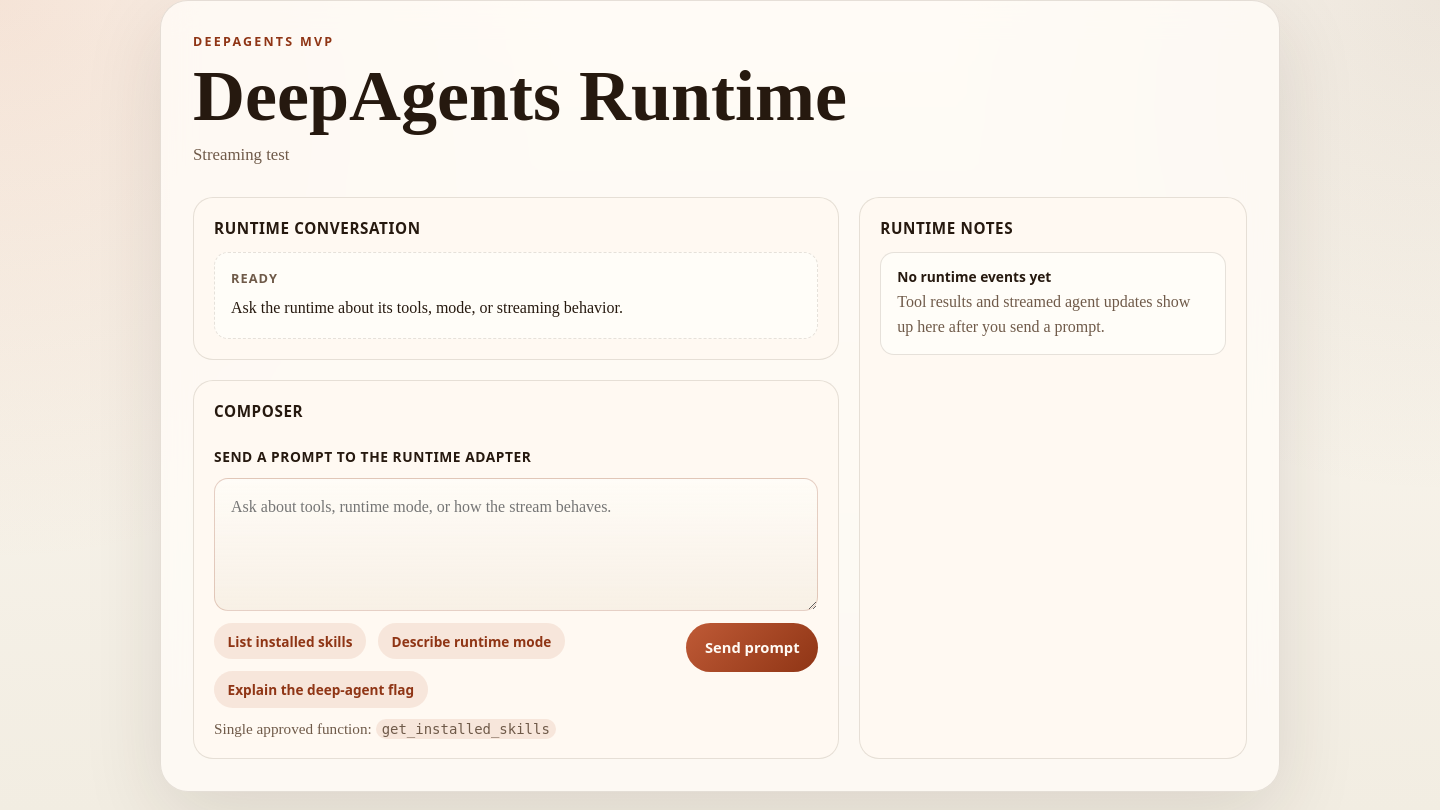
it: ChatShell › preserves whitespace across streamed assistant deltas
Step 1. Type "List installed skills" into the text box labelled "Send a prompt to the runtime adapter" → (516, 544), box [214, 478, 818, 611]
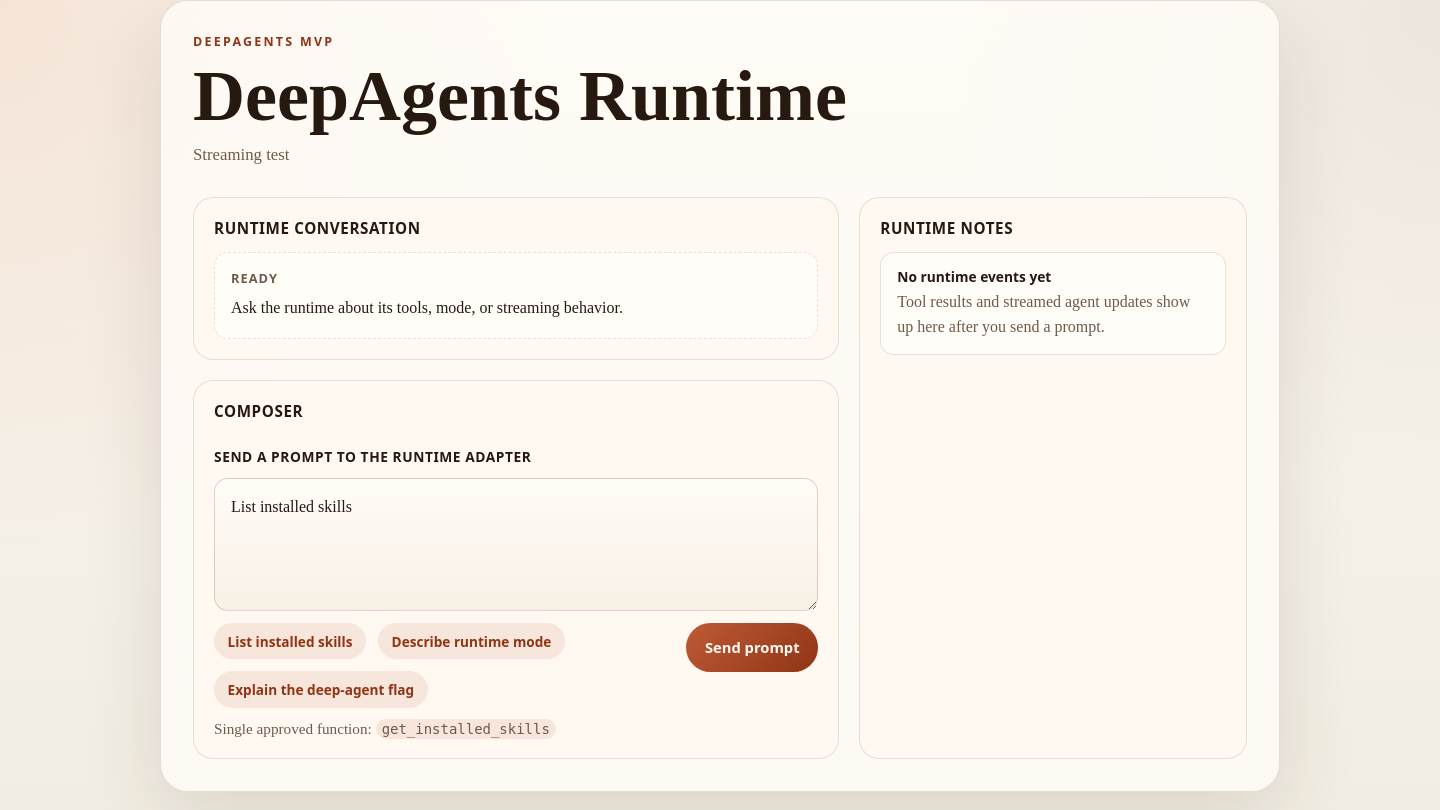
Step 2. Click the button "Send prompt" → (752, 647), box [686, 623, 818, 672]
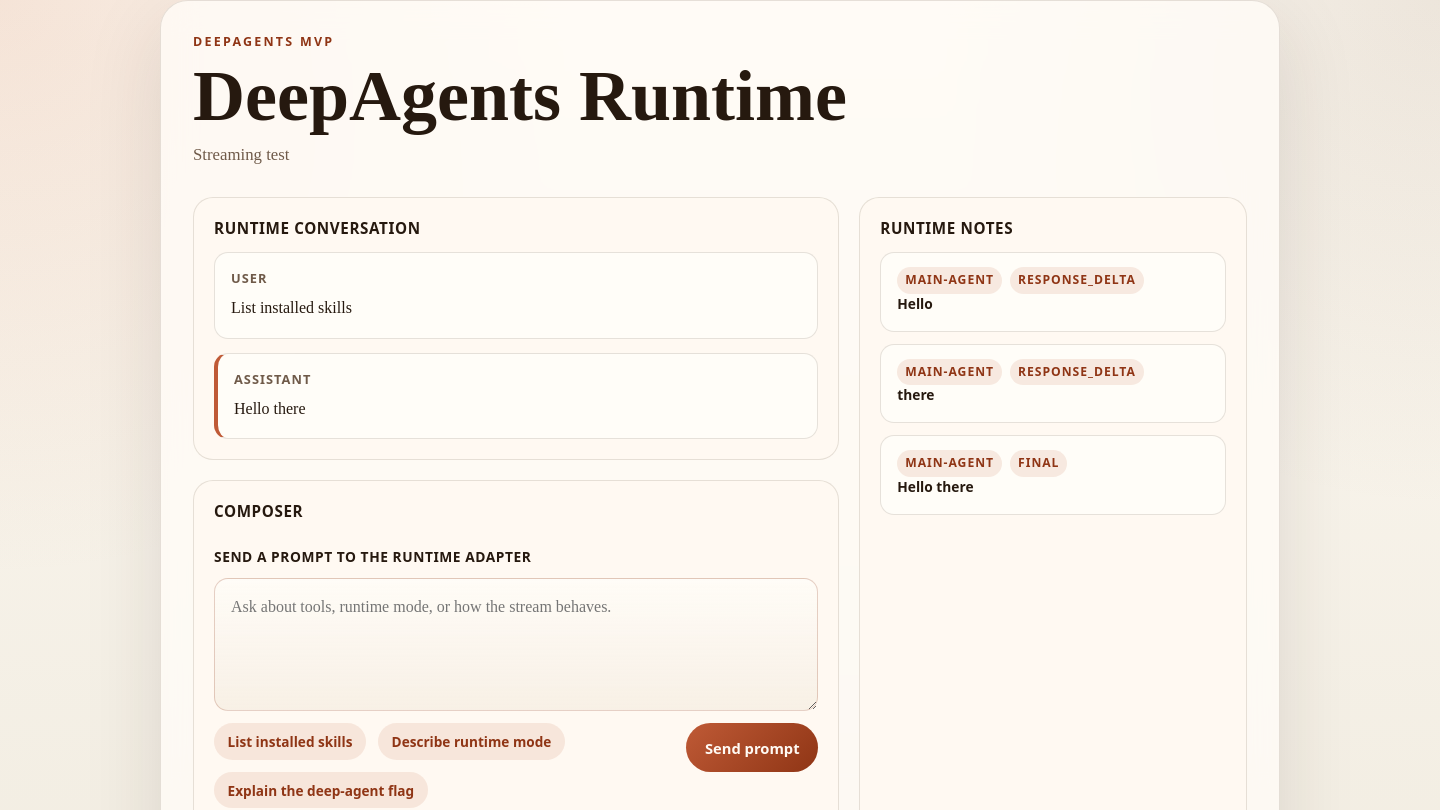
expect the text "Hello there" is shown 2 times: met, box [234, 400, 306, 417]; [897, 477, 974, 496]
